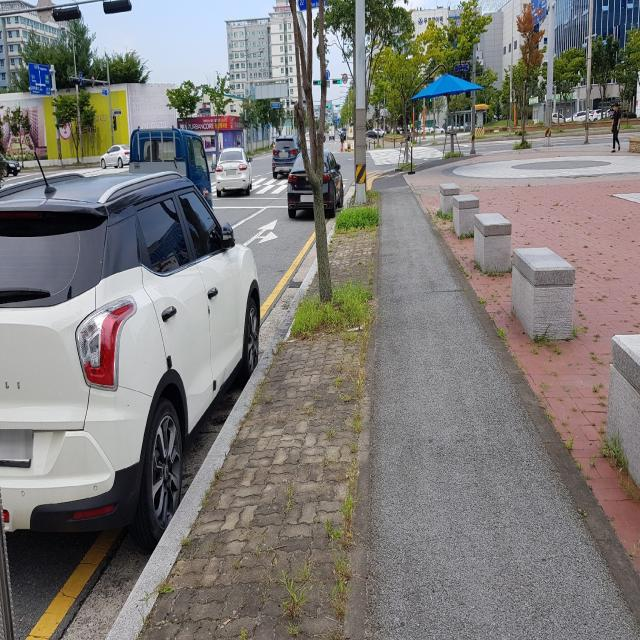횡단보도: (367, 147, 447, 165)
